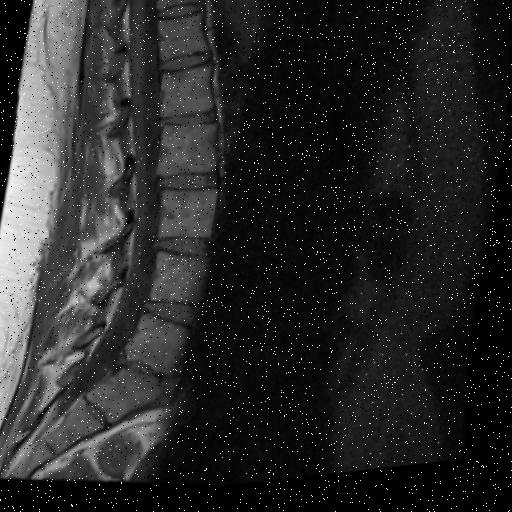L1: (162, 69, 213, 121)
L2: (159, 128, 219, 180)
L3: (159, 194, 219, 243)
L4: (153, 256, 207, 307)
L5: (129, 317, 192, 378)
S1: (89, 368, 162, 424)
